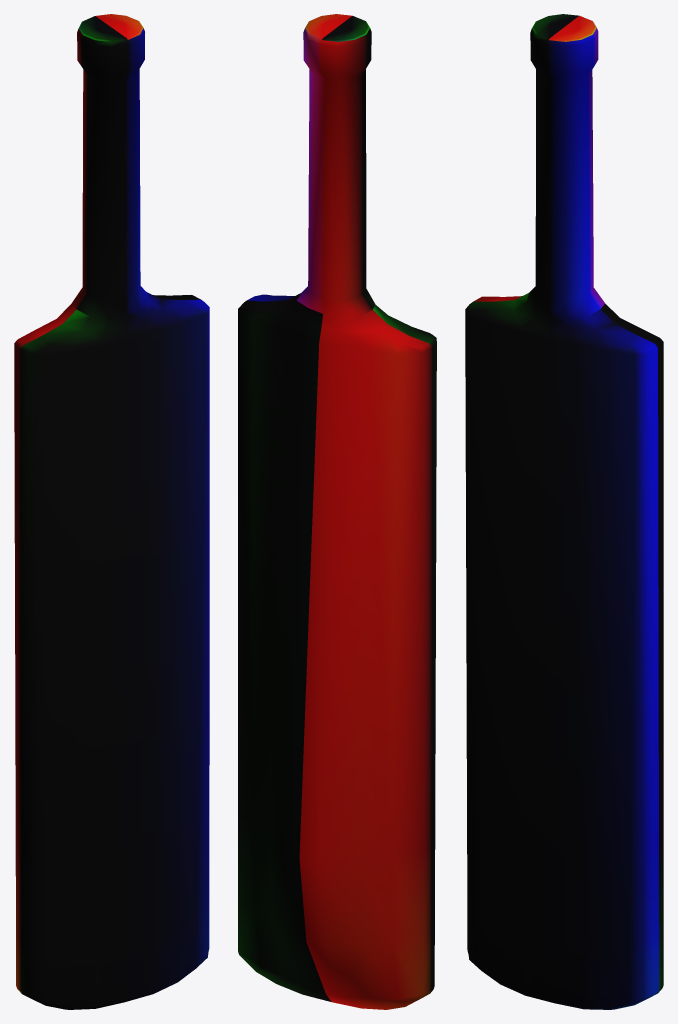
File: Bat.fbx
The picture shows the model from 3 angles, left to right: view 1: azimuth 30°, elevation 25°; view 2: azimuth 150°, elevation 25°; view 3: azimuth 330°, elevation 25°; orthographic projection.
Parts seen in each view (by area): view 1: Bat; view 2: Bat; view 3: Bat.
Part boxes in pixels (left/top/right/bottom): Bat: left=14, top=14, right=209, bottom=1009; Bat: left=238, top=14, right=436, bottom=1009; Bat: left=465, top=14, right=663, bottom=1009.
Size of the model in its own units: 215 by 1063 by 110.
